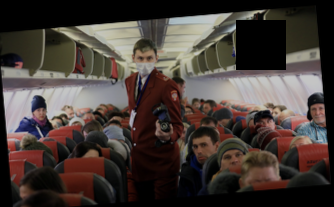with_mask: (135, 54, 156, 75)
without_mask: (194, 137, 214, 164), (310, 106, 325, 125), (32, 108, 48, 121), (178, 85, 187, 99)
